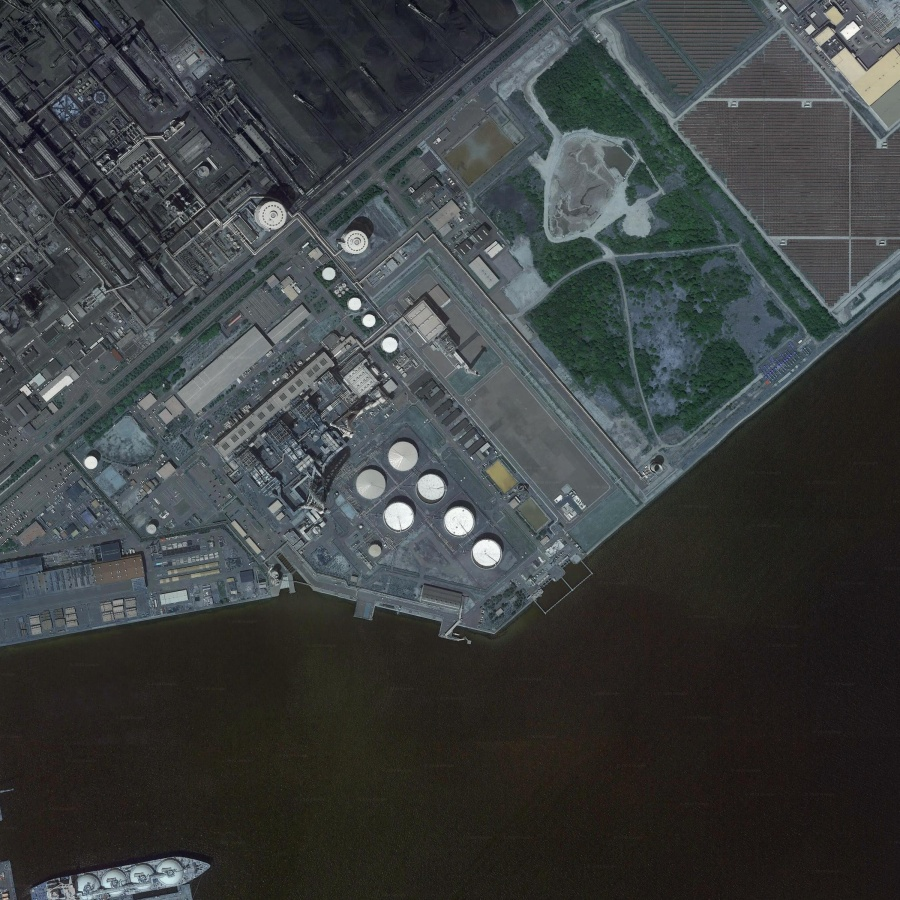PowerPlant: (224, 188, 524, 567)
